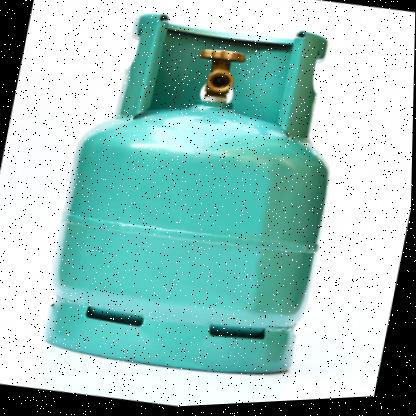gas-tank: (26, 0, 382, 409)
